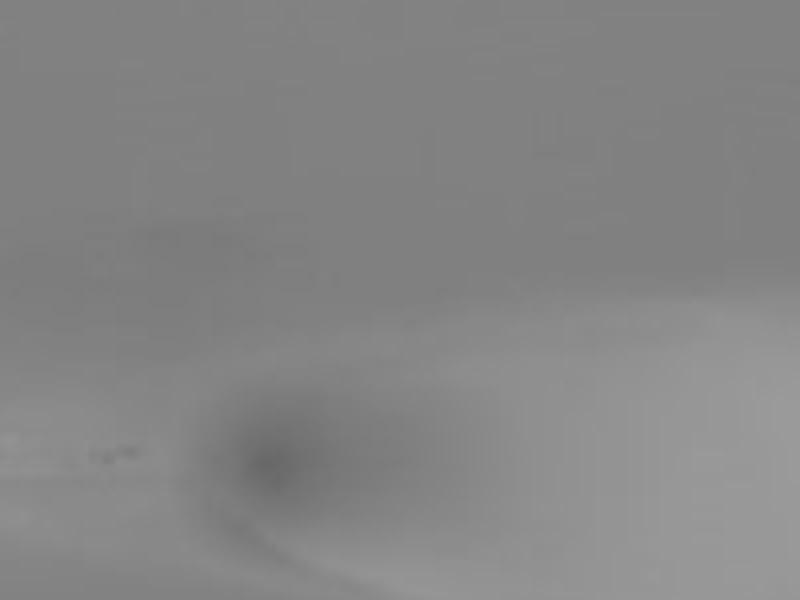defect: (210, 404, 363, 537), (85, 447, 114, 468), (119, 438, 143, 462)
